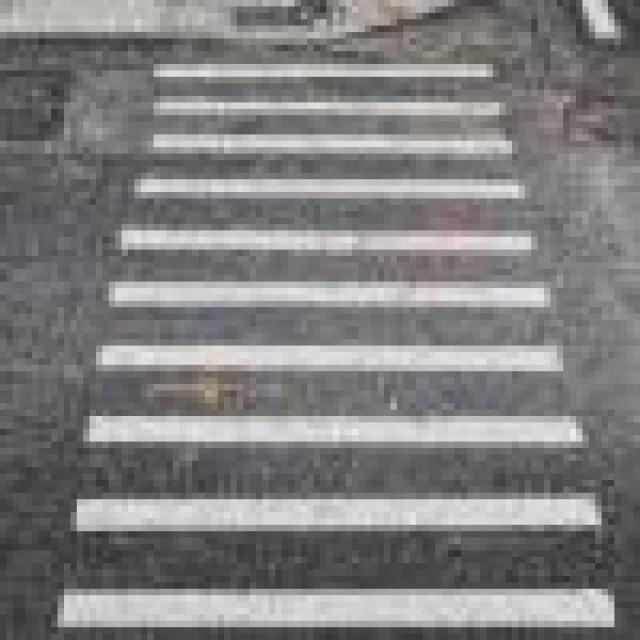crosswalk: (56, 51, 620, 640)
